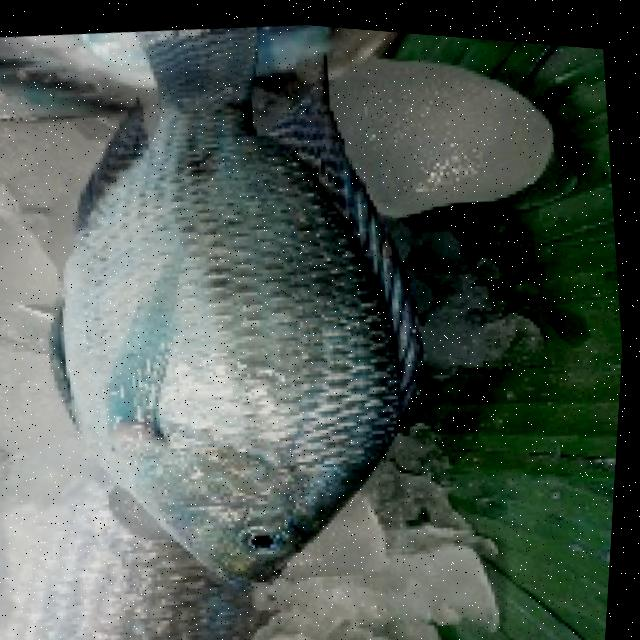Fresh: (31, 4, 433, 619)
